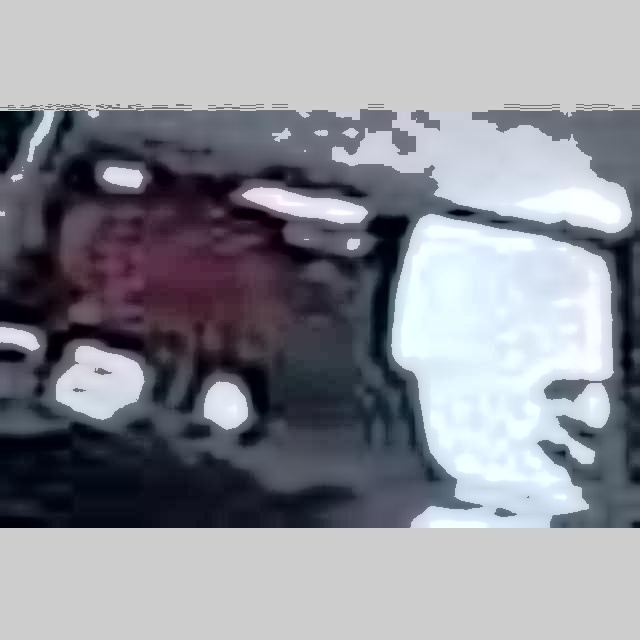tidak-pakai: (71, 173, 284, 369)
